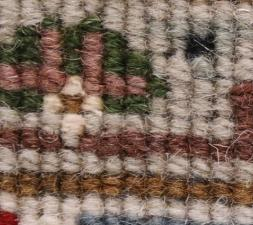Knot: (97, 54, 124, 74), (121, 98, 148, 116), (35, 31, 59, 49), (35, 49, 59, 67), (162, 184, 186, 202), (16, 94, 39, 112), (35, 197, 58, 215), (80, 78, 102, 96), (37, 150, 58, 168), (80, 157, 101, 175), (183, 207, 205, 224), (167, 121, 190, 137), (15, 150, 38, 166), (206, 184, 229, 200), (38, 130, 58, 148), (213, 56, 233, 74), (16, 71, 38, 87), (187, 161, 209, 177), (163, 202, 185, 218), (207, 202, 229, 218), (190, 139, 209, 157), (82, 112, 101, 130), (62, 31, 81, 49), (80, 96, 101, 112), (80, 175, 101, 191), (119, 197, 140, 213), (18, 132, 38, 148), (120, 116, 140, 132), (18, 179, 38, 195), (96, 139, 116, 155), (38, 15, 58, 31), (38, 175, 58, 191), (42, 78, 62, 94), (16, 22, 38, 36), (144, 200, 163, 216), (144, 157, 163, 173), (62, 60, 81, 76), (19, 112, 38, 128), (233, 6, 252, 22), (58, 157, 77, 173), (102, 197, 120, 213), (102, 157, 120, 173), (193, 56, 211, 72), (190, 121, 207, 137), (163, 139, 182, 153), (101, 114, 120, 128), (168, 35, 187, 49), (123, 157, 139, 173), (151, 4, 167, 20), (15, 213, 38, 224), (144, 175, 162, 189), (101, 184, 120, 197), (214, 78, 229, 94), (234, 107, 249, 123), (119, 141, 135, 155), (61, 135, 78, 148), (81, 137, 96, 150), (37, 215, 57, 224), (229, 92, 242, 105), (59, 215, 76, 224), (102, 215, 117, 224), (217, 146, 226, 161), (241, 69, 252, 81), (241, 83, 252, 94), (147, 216, 162, 224)
